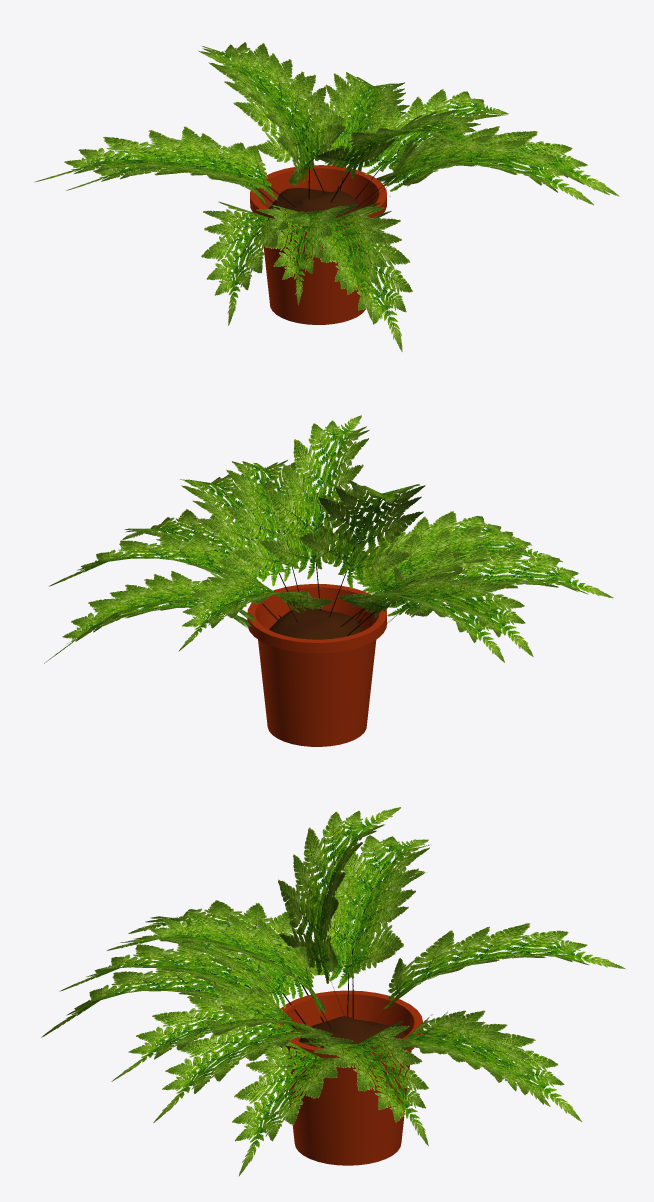
File: HelechoPerejil.fbx
The picture shows the model from 3 angles, top to bottom: view 1: azimuth 30°, elevation 25°; view 2: azimuth 150°, elevation 25°; view 3: azimuth 270°, elevation 25°; orthographic projection. The views are drawn at different scales.
Parts seen in each view (by area): view 1: Sphere, Sphere|Plane|Dupli|4, Sphere|Plane|Dupli|14, Sphere|Plane|Dupli|12, Sphere|Plane|Dupli|6, Sphere|Plane|Dupli|10, Sphere|Plane|Dupli|2, Sphere|Plane|Dupli|9, Sphere|Plane|Dupli|3, Sphere|Plane|Dupli|8, Sphere|Plane|Dupli|11, Sphere|Plane|Dupli|13 (+4 smaller); view 2: Sphere, Sphere|Plane|Dupli|8, Sphere|Plane|Dupli|4, Sphere|Plane|Dupli|12, Sphere|Plane|Dupli|6, Sphere|Plane|Dupli|14, Sphere|Plane|Dupli|11, Sphere|Plane|Dupli|7, Sphere|Plane|Dupli|2, Sphere|Plane|Dupli|3, Sphere|Plane|Dupli|1, Sphere|Plane|Dupli|13 (+3 smaller); view 3: Sphere, Sphere|Plane|Dupli|4, Sphere|Plane|Dupli|14, Sphere|Plane|Dupli|2, Sphere|Plane|Dupli|5, Sphere|Plane|Dupli|7, Sphere|Plane|Dupli|3, Sphere|Plane|Dupli|6, Sphere|Plane|Dupli|8, Sphere|Plane|Dupli|, Sphere|Plane|Dupli|13, Sphere|Plane|Dupli|10 (+4 smaller).
Boxes of the visible parts, x1=… form: Sphere: x1=250, y1=165, x2=386, y2=324; Sphere|Plane|Dupli|4: x1=198, y1=50, x2=345, y2=199; Sphere|Plane|Dupli|14: x1=35, y1=126, x2=279, y2=208; Sphere|Plane|Dupli|12: x1=201, y1=201, x2=324, y2=325; Sphere|Plane|Dupli|6: x1=356, y1=132, x2=593, y2=207; Sphere|Plane|Dupli|10: x1=290, y1=202, x2=386, y2=320; Sphere|Plane|Dupli|2: x1=201, y1=42, x2=346, y2=192; Sphere|Plane|Dupli|9: x1=295, y1=211, x2=412, y2=351; Sphere|Plane|Dupli|3: x1=350, y1=89, x2=508, y2=199; Sphere|Plane|Dupli|8: x1=315, y1=109, x2=484, y2=202; Sphere|Plane|Dupli|11: x1=256, y1=202, x2=357, y2=305; Sphere|Plane|Dupli|13: x1=66, y1=133, x2=296, y2=207; Sphere: x1=247, y1=584, x2=386, y2=746; Sphere|Plane|Dupli|8: x1=259, y1=415, x2=369, y2=610; Sphere|Plane|Dupli|4: x1=299, y1=480, x2=425, y2=617; Sphere|Plane|Dupli|12: x1=387, y1=546, x2=613, y2=623; Sphere|Plane|Dupli|6: x1=225, y1=460, x2=338, y2=606; Sphere|Plane|Dupli|14: x1=343, y1=569, x2=533, y2=656; Sphere|Plane|Dupli|11: x1=358, y1=525, x2=562, y2=621; Sphere|Plane|Dupli|7: x1=180, y1=472, x2=307, y2=607; Sphere|Plane|Dupli|2: x1=178, y1=567, x2=333, y2=651; Sphere|Plane|Dupli|3: x1=48, y1=531, x2=277, y2=620; Sphere|Plane|Dupli|1: x1=44, y1=574, x2=251, y2=663; Sphere|Plane|Dupli|13: x1=337, y1=572, x2=504, y2=662; Sphere: x1=274, y1=990, x2=423, y2=1165; Sphere|Plane|Dupli|4: x1=278, y1=807, x2=400, y2=1017; Sphere|Plane|Dupli|14: x1=300, y1=835, x2=429, y2=1018; Sphere|Plane|Dupli|2: x1=368, y1=923, x2=625, y2=1030; Sphere|Plane|Dupli|5: x1=232, y1=1036, x2=380, y2=1176; Sphere|Plane|Dupli|7: x1=153, y1=1000, x2=353, y2=1122; Sphere|Plane|Dupli|3: x1=299, y1=1021, x2=428, y2=1146; Sphere|Plane|Dupli|6: x1=111, y1=984, x2=332, y2=1081; Sphere|Plane|Dupli|8: x1=120, y1=911, x2=331, y2=1028; Sphere|Plane|Dupli|: x1=371, y1=1010, x2=550, y2=1106; Sphere|Plane|Dupli|13: x1=309, y1=863, x2=425, y2=1016; Sphere|Plane|Dupli|10: x1=59, y1=939, x2=298, y2=1030.
Size of the model in its own units: 2037 by 1013 by 1873.
3 materials, 1 textured.
